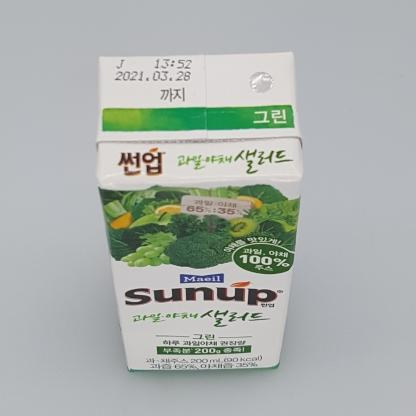-------------200ML: (95, 51, 303, 372)
